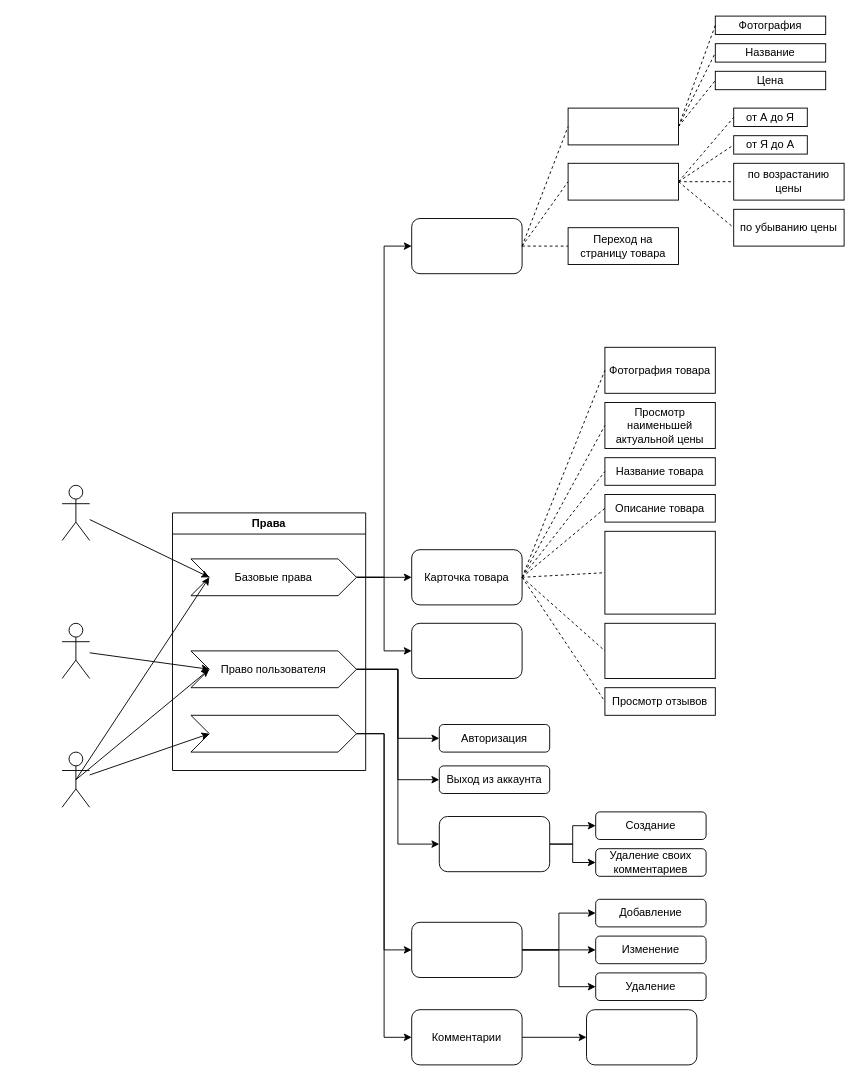
Some shapes in this 860 by 1081 pixel diagram are drawn without their labels. Here are the shapes that lost their labels. From the top down, the centre of each, then its label:
At (622,126): "Отображение карточек товаров".
At (622,181): "Возможность сортировки".
At (466,246): "Список товаров".
At (75,512): "Незарегистрированный пользователь".
At (659,572): "Просмотр актуальных цен в виде списка по магазинам с возможностью перехода".
At (75,650): "Пользователь".
At (466,650): "Регистрация".
At (659,650): "Просмотр динамики цен в виде графика на временной шкале".
At (273,733): "Права администратора".
At (75,779): "Администратор".
At (494,844): "Комментарий".
At (466,949): "Товры".
At (641,1037): "Удаление комментариев ото всех пользователей".
